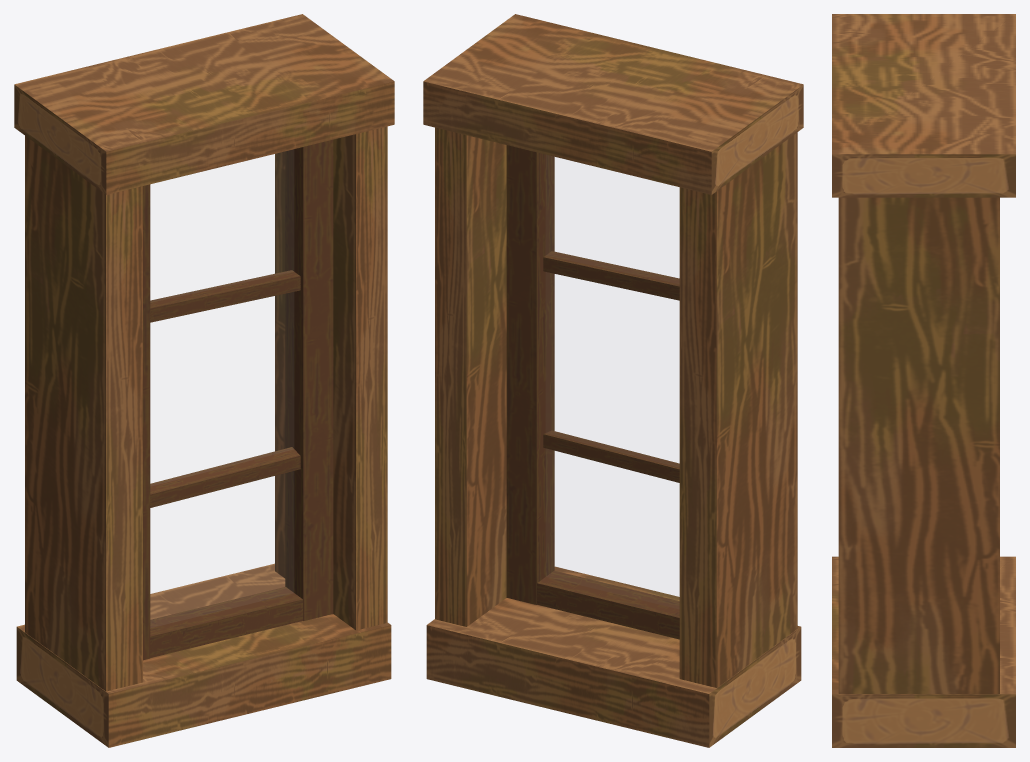
Rendered from window_thin_flat1.glb.
3 renders of one model, left to right at view 1: azimuth 30°, elevation 25°; view 2: azimuth 150°, elevation 25°; view 3: azimuth 270°, elevation 25°, orthographic.
Parts seen in each view (by area): view 1: Window_Thin_Flat1; view 2: Window_Thin_Flat1; view 3: Window_Thin_Flat1.
Boxes of the visible parts, x1,y1,x2,y2 form: Window_Thin_Flat1: (14, 14, 394, 747); Window_Thin_Flat1: (423, 14, 803, 747); Window_Thin_Flat1: (832, 14, 1015, 747).
Size of the model in its own units: 0.788 by 1.56 by 0.4357.
Materials: 2 (1 with a texture image).
